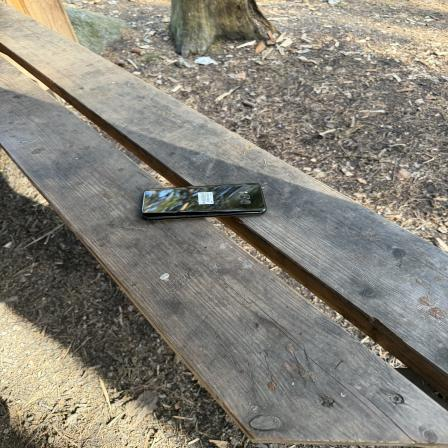phone: (143, 185, 269, 218)
